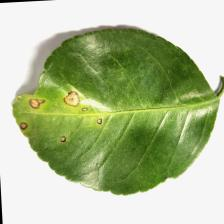canker: (19, 64, 104, 153)
